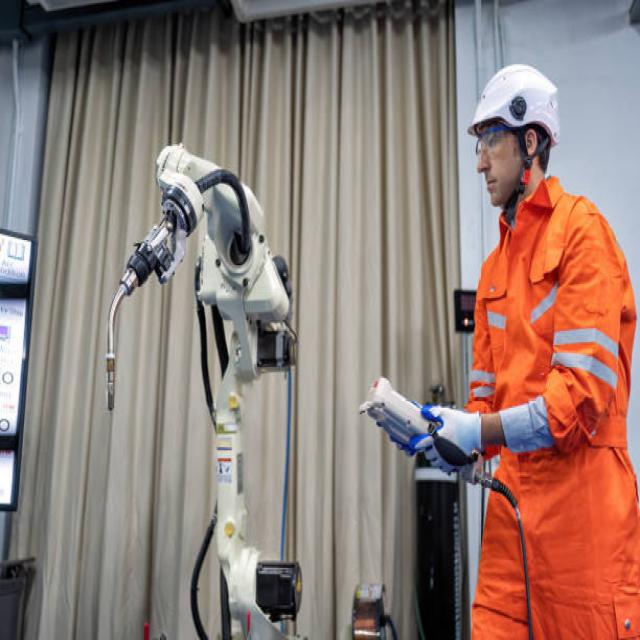Robotic-arm: (102, 130, 309, 640)
